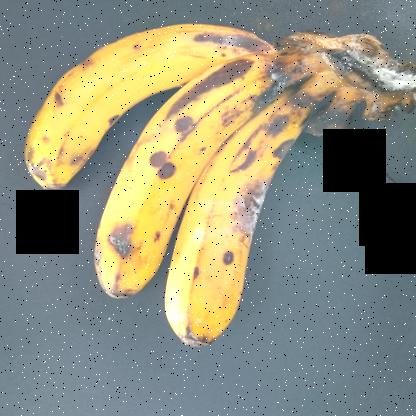overripe: (86, 60, 314, 296), (158, 70, 338, 353), (13, 13, 236, 194)
rotten: (200, 153, 293, 266)
